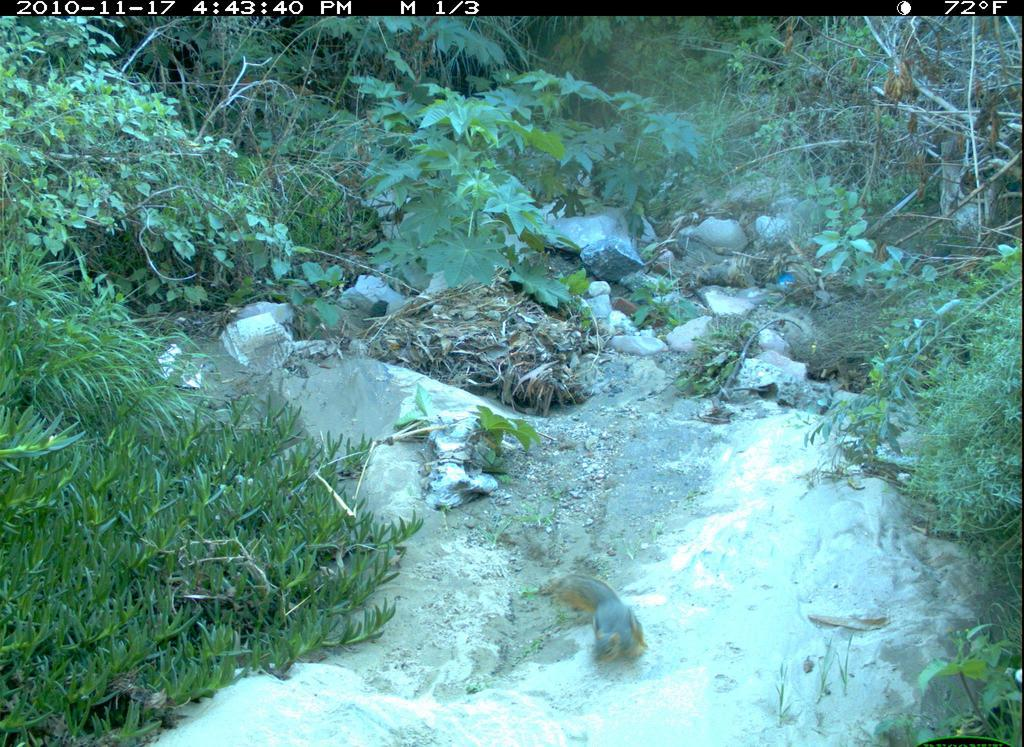squirrel: (523, 561, 662, 666)
